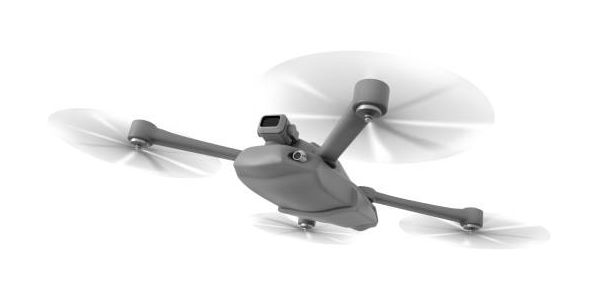Drone: (64, 57, 504, 254)
